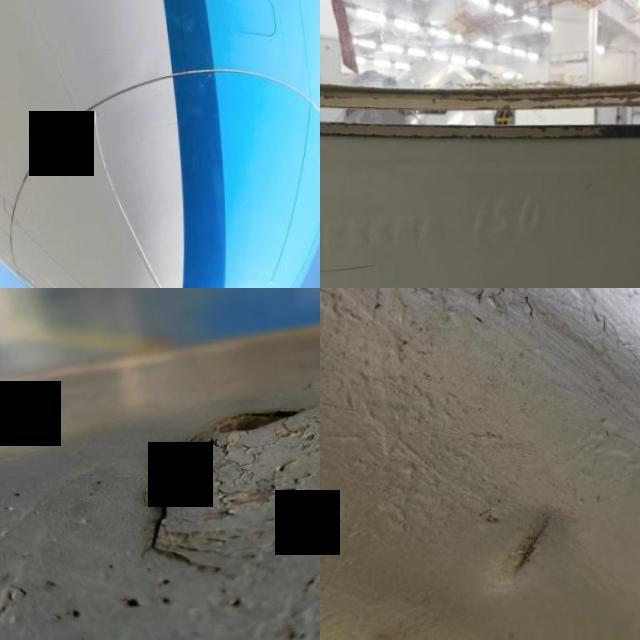Crack: (109, 380, 320, 596), (0, 197, 17, 219)
Dent: (475, 480, 590, 602)
